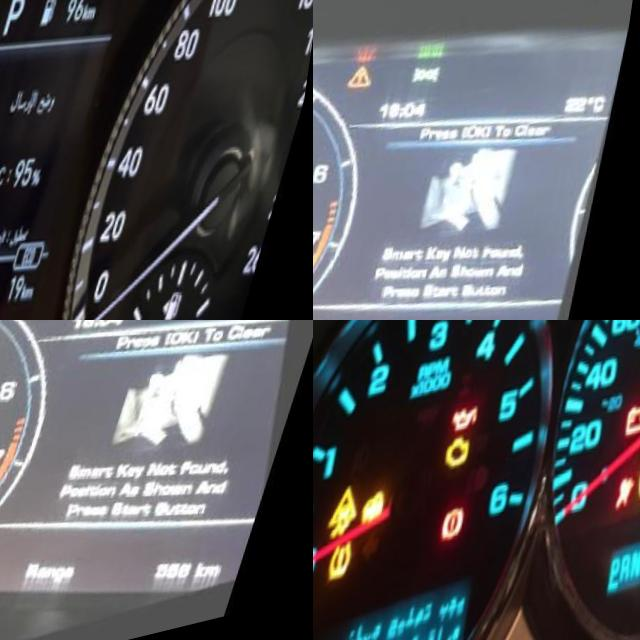security: (365, 489, 399, 541)
